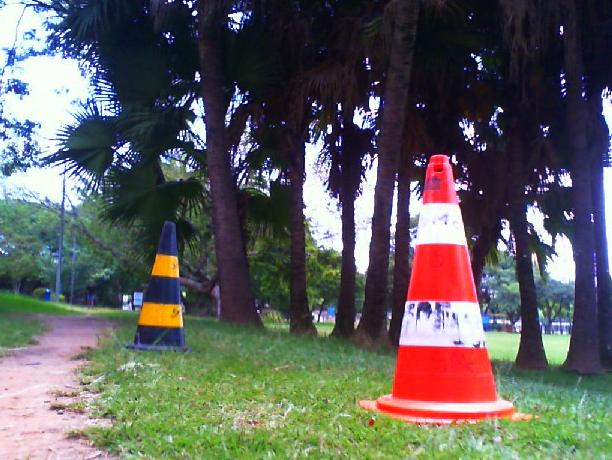0 cone: (358, 155, 539, 422), (125, 222, 199, 351)
